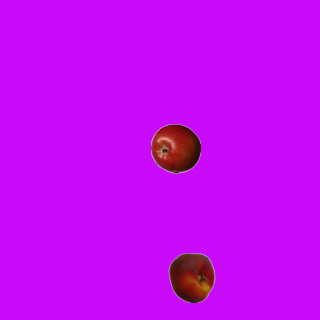Apple Braeburn: (150, 123, 200, 173)
Nectarine Flat: (166, 252, 216, 302)
